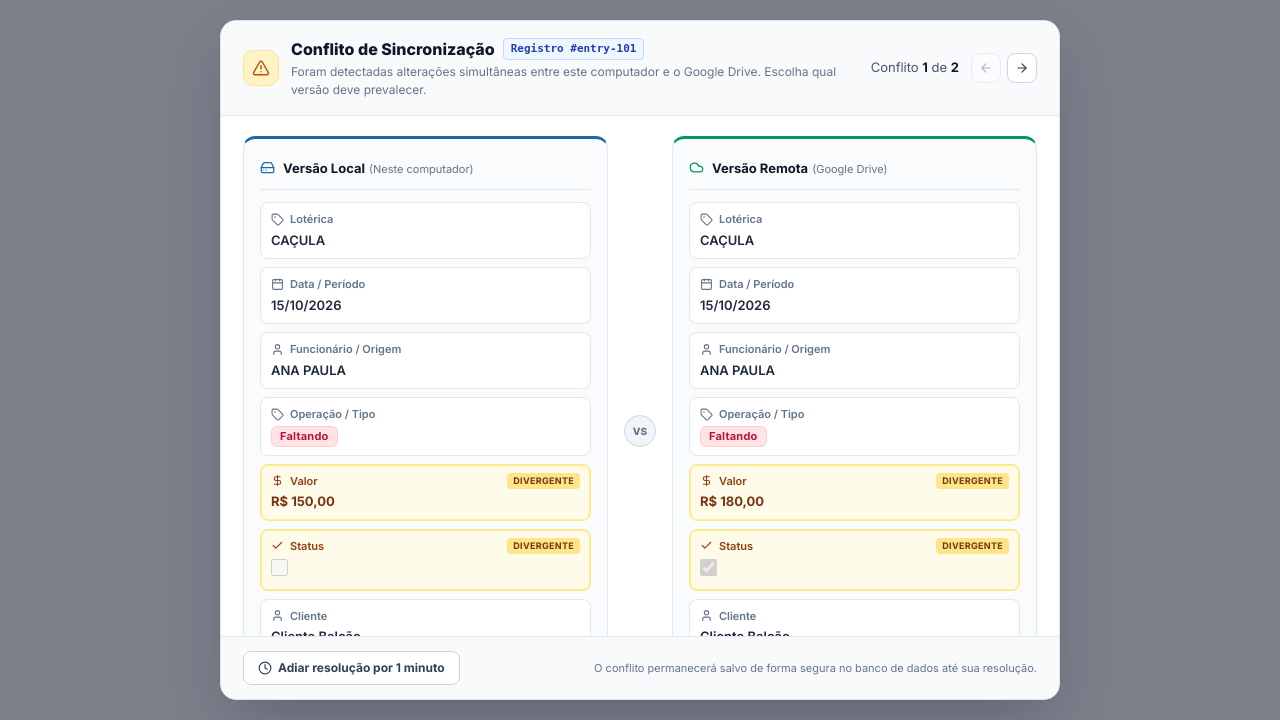
Test case: ConflictResolutionModal (Novo Modal de Resolução de Conflitos) › 3. exibe contador "Conflito 1 de 2" e permite navegar para o próximo conflito
The image size is (1280, 720).
Expected: the element with class "rp-conflict-counter" reads "Conflito 1 de 2", [871, 58, 959, 78]
Click the button named "Próximo conflito" at (1022, 68), box [1007, 53, 1037, 83]
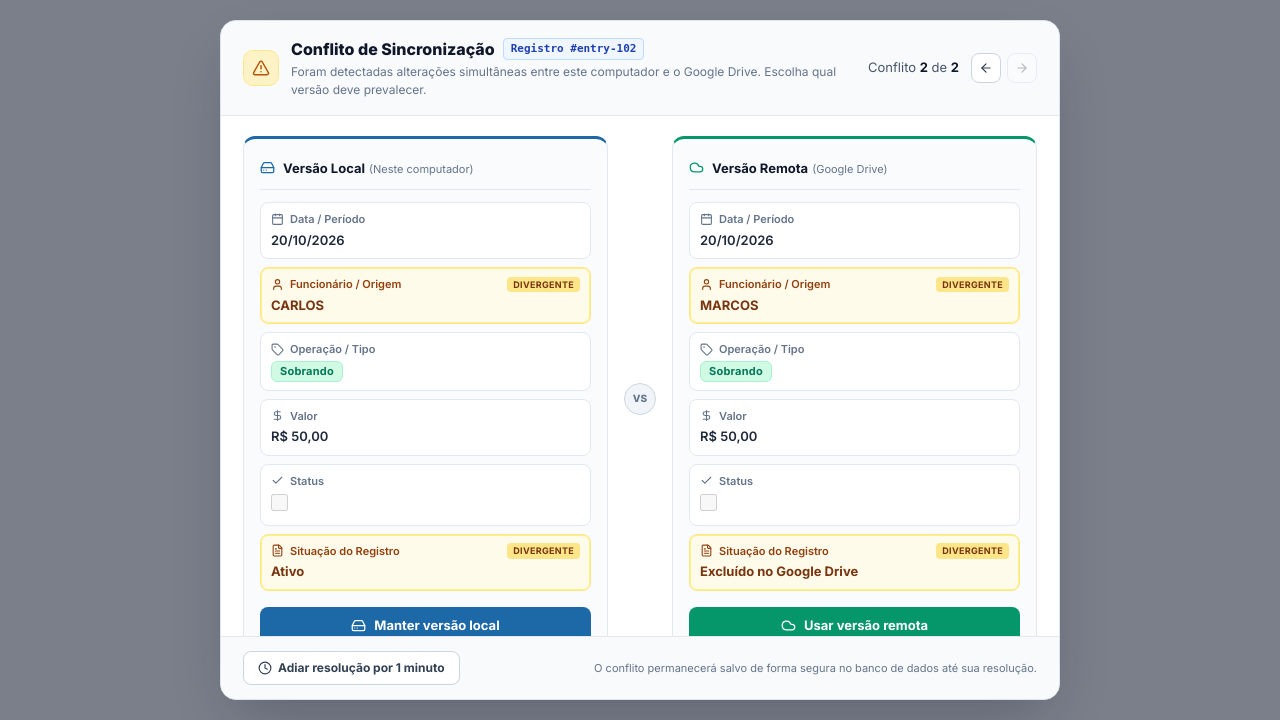
Expected: the element with class "rp-conflict-counter" reads "Conflito 2 de 2", [868, 58, 959, 78]
Expected: the text "CARLOS" is shown, [271, 296, 324, 312]
Expected: the text "MARCOS" is shown, [700, 296, 758, 312]
